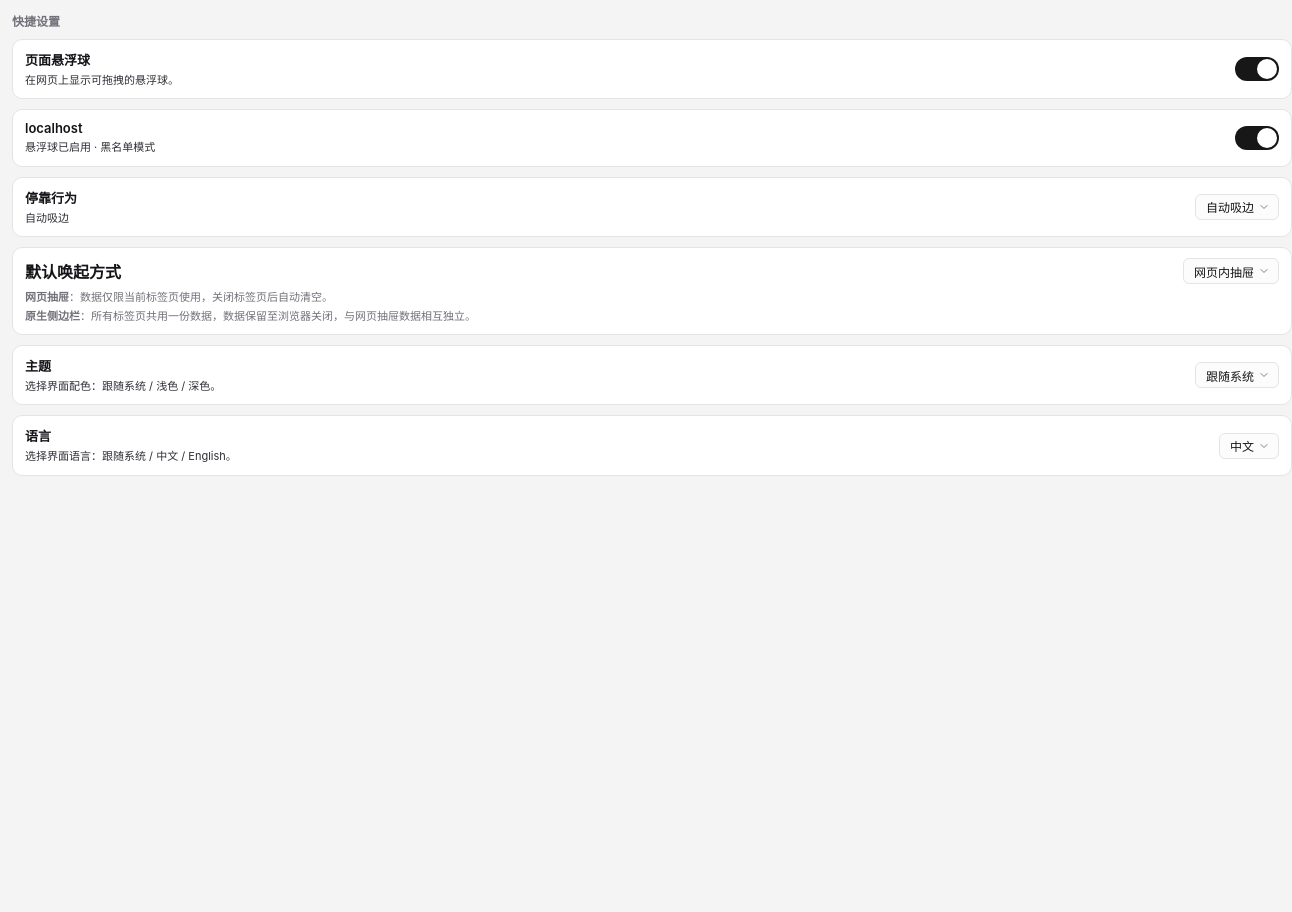
Test: QuickSettings 脏标记 + useEffect 写存储 › 写入失败时弹出 saveFailed 提示，不静默
Click the 1st switch at x=1257, y=69, box left=1235, top=57, right=1279, bottom=81
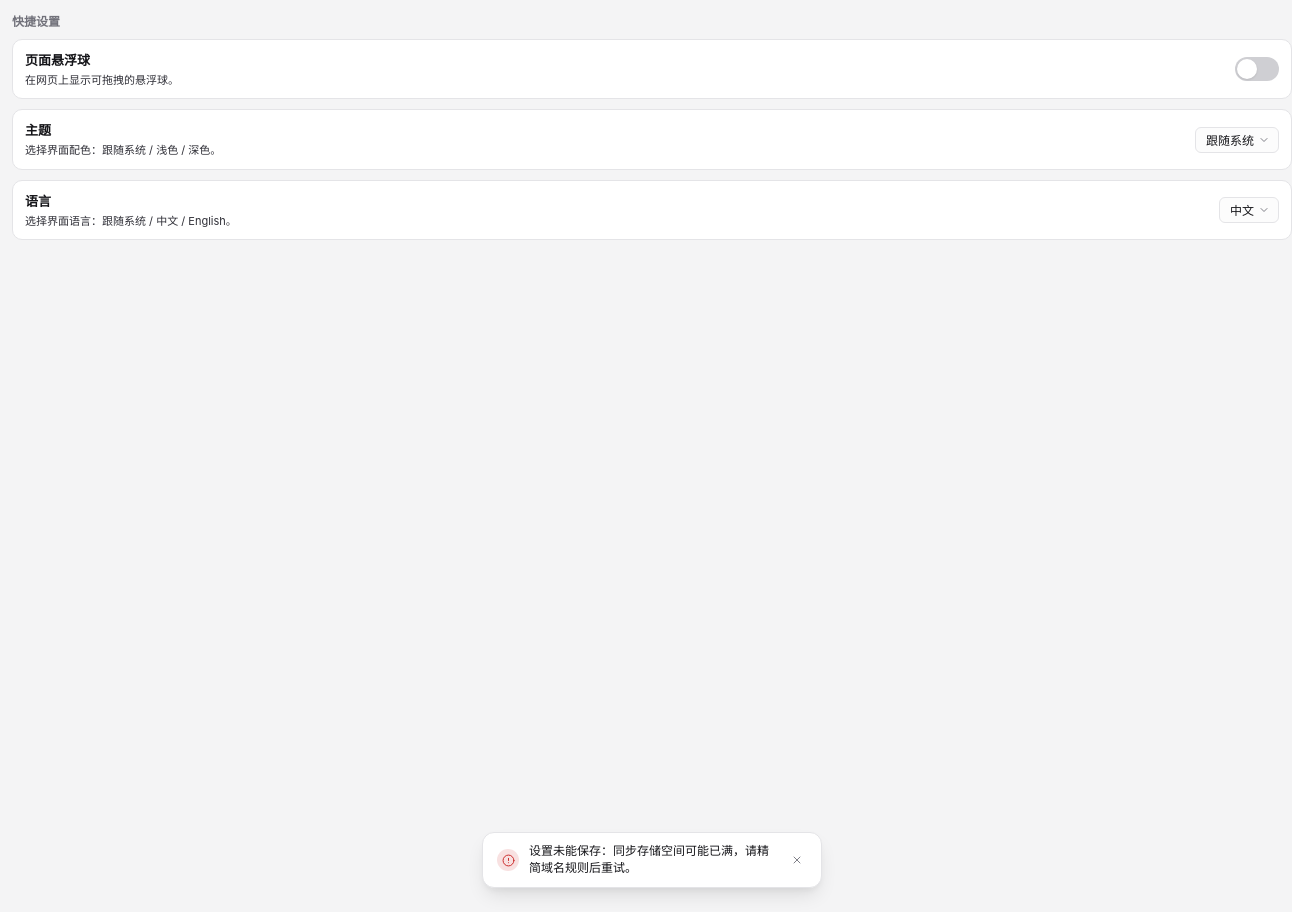
Now the text "设置未能保存：同步存储空间可能已满，请精简域名规则后重试。" is shown, box left=529, top=843, right=769, bottom=875
